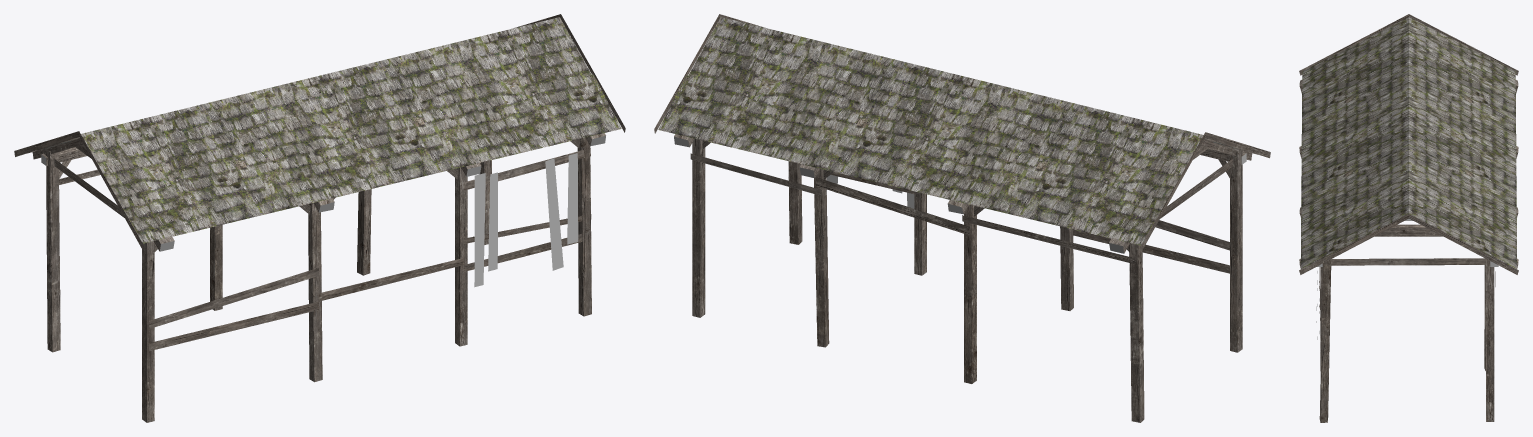
Rendered from Shed7_LOD2.fbx.
3 renders of one model, left to right at view 1: azimuth 30°, elevation 25°; view 2: azimuth 150°, elevation 25°; view 3: azimuth 270°, elevation 25°, orthographic. The views are drawn at different scales.
Parts seen in each view (by area): view 1: polySurface1083; view 2: polySurface1083; view 3: polySurface1083.
Boxes of the visible parts, left/top/right/bottom form: polySurface1083: left=14, top=14, right=625, bottom=422; polySurface1083: left=654, top=14, right=1270, bottom=422; polySurface1083: left=1299, top=14, right=1518, bottom=422.
Size of the model in its own units: 10.57 by 5.39 by 4.92.
